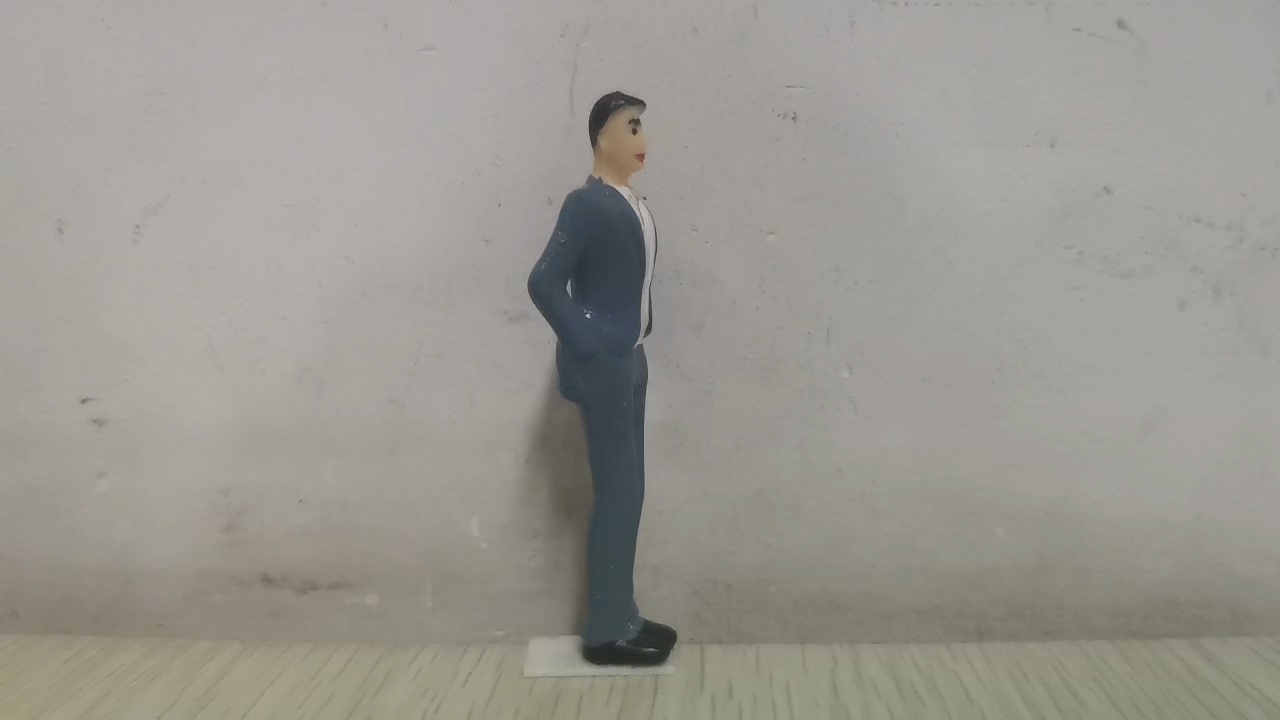person: (523, 89, 679, 670)
